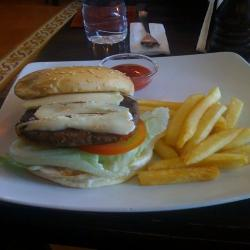burger: (9, 61, 151, 195)
fries: (140, 91, 250, 191)
ketchup: (90, 51, 164, 95)
